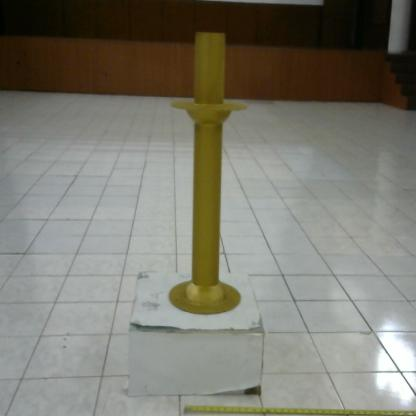pole: (161, 26, 253, 323)
